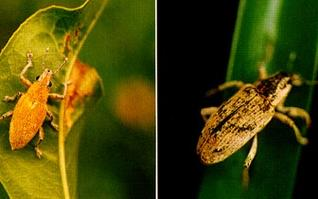Curculionidae: (196, 43, 311, 187), (1, 47, 71, 161)
